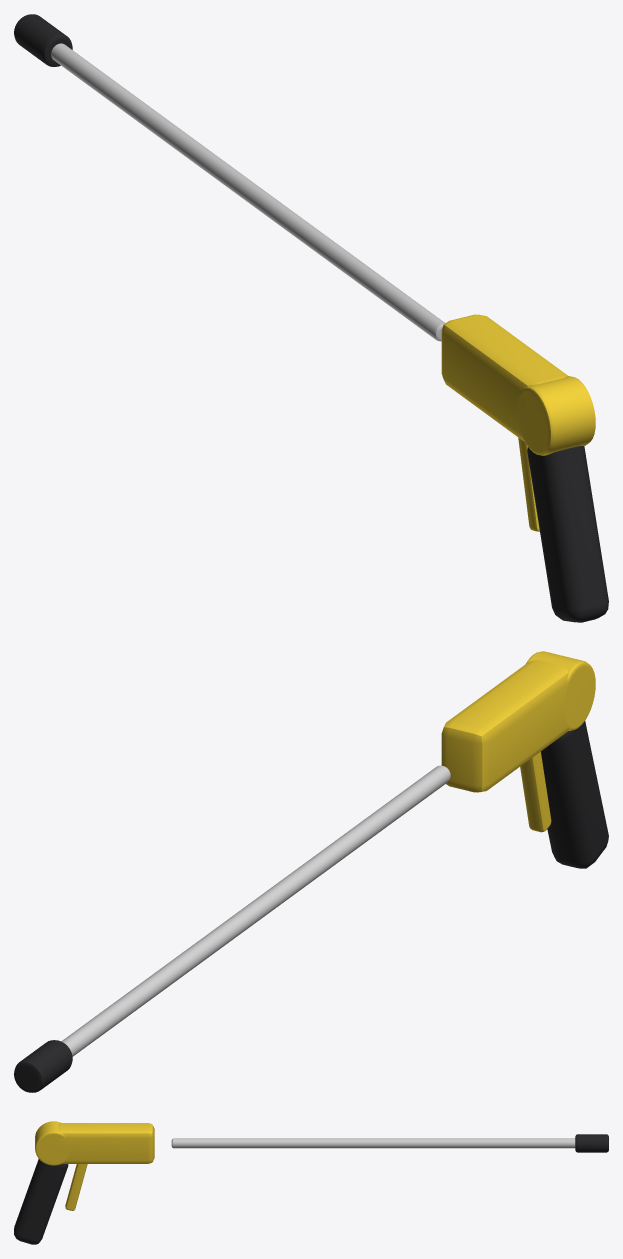
File: industrial.workshop.tool_lance.glb
3 renders of one model, top to bottom at view 1: azimuth 30°, elevation 25°; view 2: azimuth 150°, elevation 25°; view 3: azimuth 270°, elevation 25°, orthographic. The views are drawn at different scales.
Parts seen in each view (by area): view 1: main__paint_ec3, main__paint_222, main__galv_ccc; view 2: main__paint_ec3, main__galv_ccc, main__paint_222; view 3: main__paint_ec3, main__galv_ccc, main__paint_222.
Part boxes in pixels (x1,y1,x2,y2): main__paint_ec3: (441,314,595,531); main__paint_222: (14,14,608,622); main__galv_ccc: (51,43,445,341); main__paint_ec3: (441,651,595,832); main__galv_ccc: (61,765,450,1056); main__paint_222: (14,721,608,1092); main__paint_ec3: (35,1121,154,1210); main__galv_ccc: (171,1138,575,1148); main__paint_222: (14,1134,608,1244).
Bounding box in the file's own units: 0.034 × 0.1522 × 0.7074.
